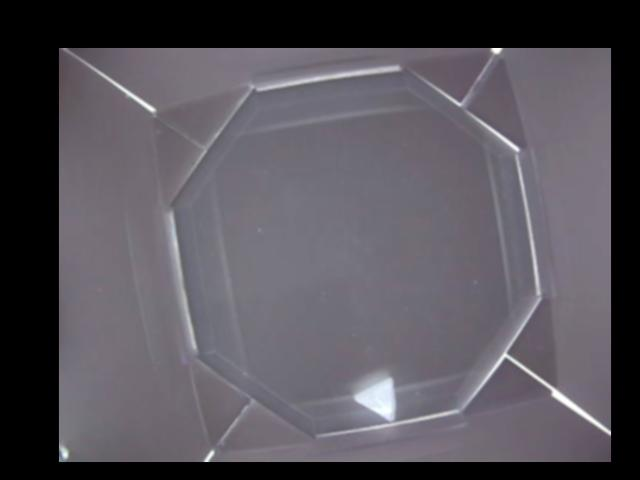China: (353, 375, 397, 423)
